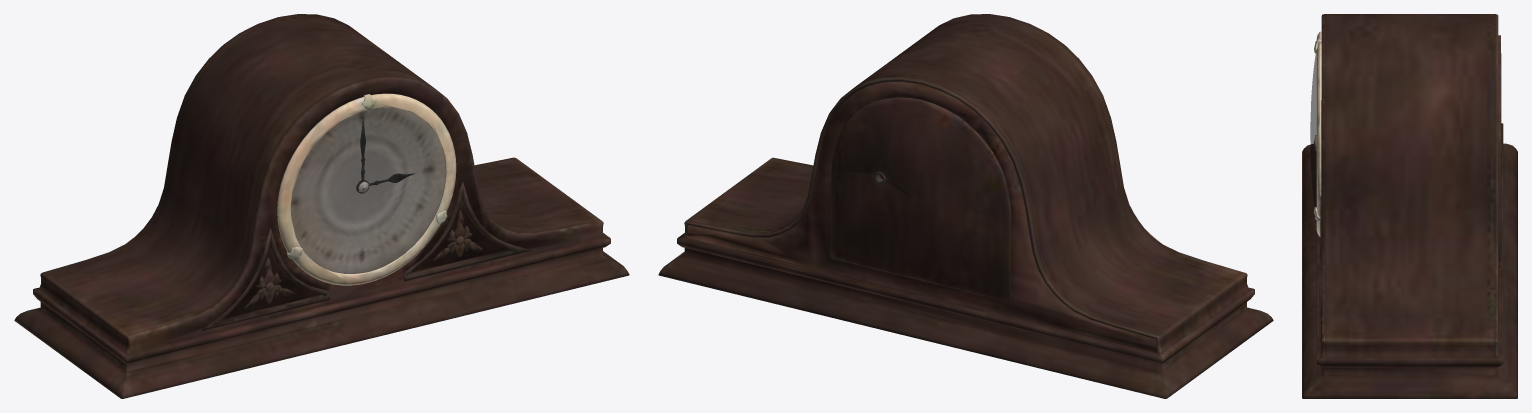
The model's file is clock-mantel.lite.8ca63702.glb.
3 renders of one model, left to right at view 1: azimuth 30°, elevation 25°; view 2: azimuth 150°, elevation 25°; view 3: azimuth 270°, elevation 25°, orthographic.
Parts seen in each view (by area): view 1: model; view 2: model; view 3: model.
Boxes of the visible parts, bbox=[...] form: model: bbox=[14, 14, 629, 398]; model: bbox=[658, 14, 1273, 398]; model: bbox=[1302, 14, 1517, 398].
Bounding box in the file's own units: 0.3423 × 0.1604 × 0.126.
Materials: 2 (2 with a texture image).
